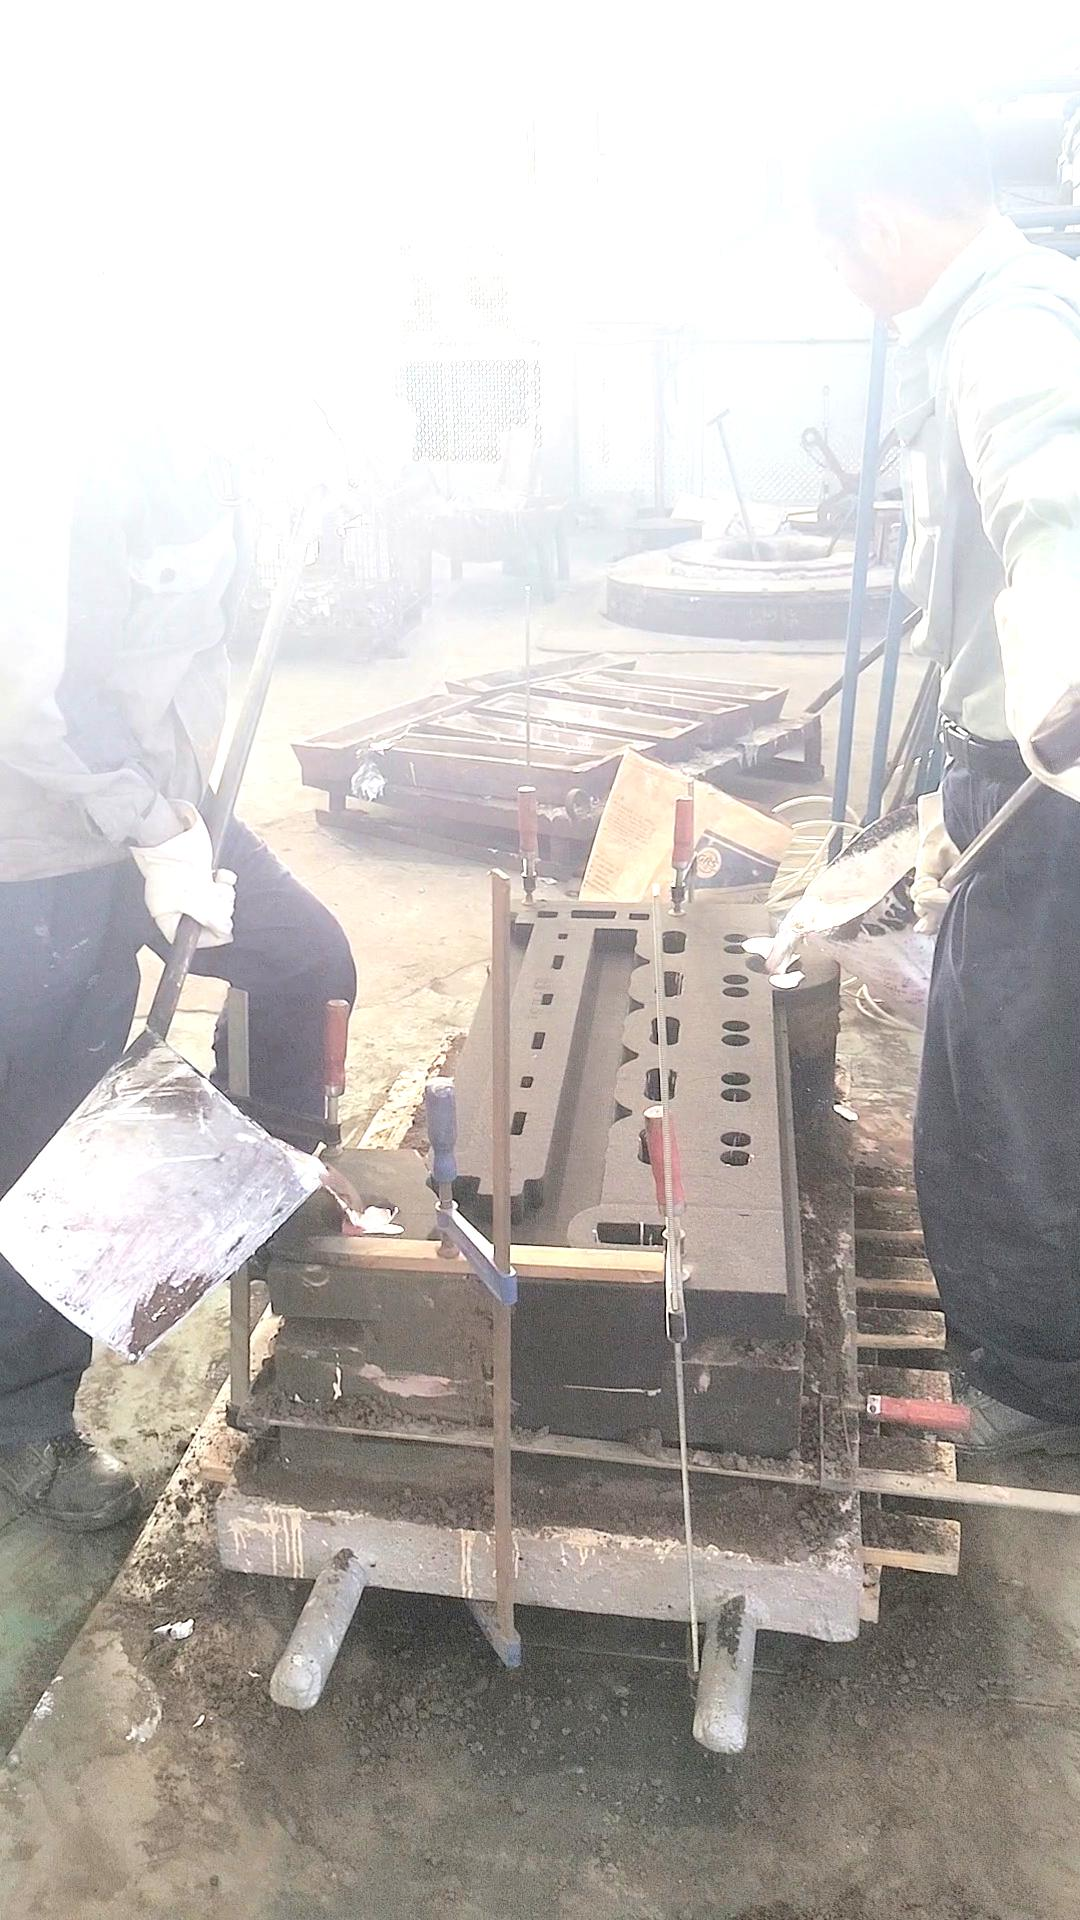pouring hole: (318, 1189, 401, 1236), (745, 947, 804, 978)
